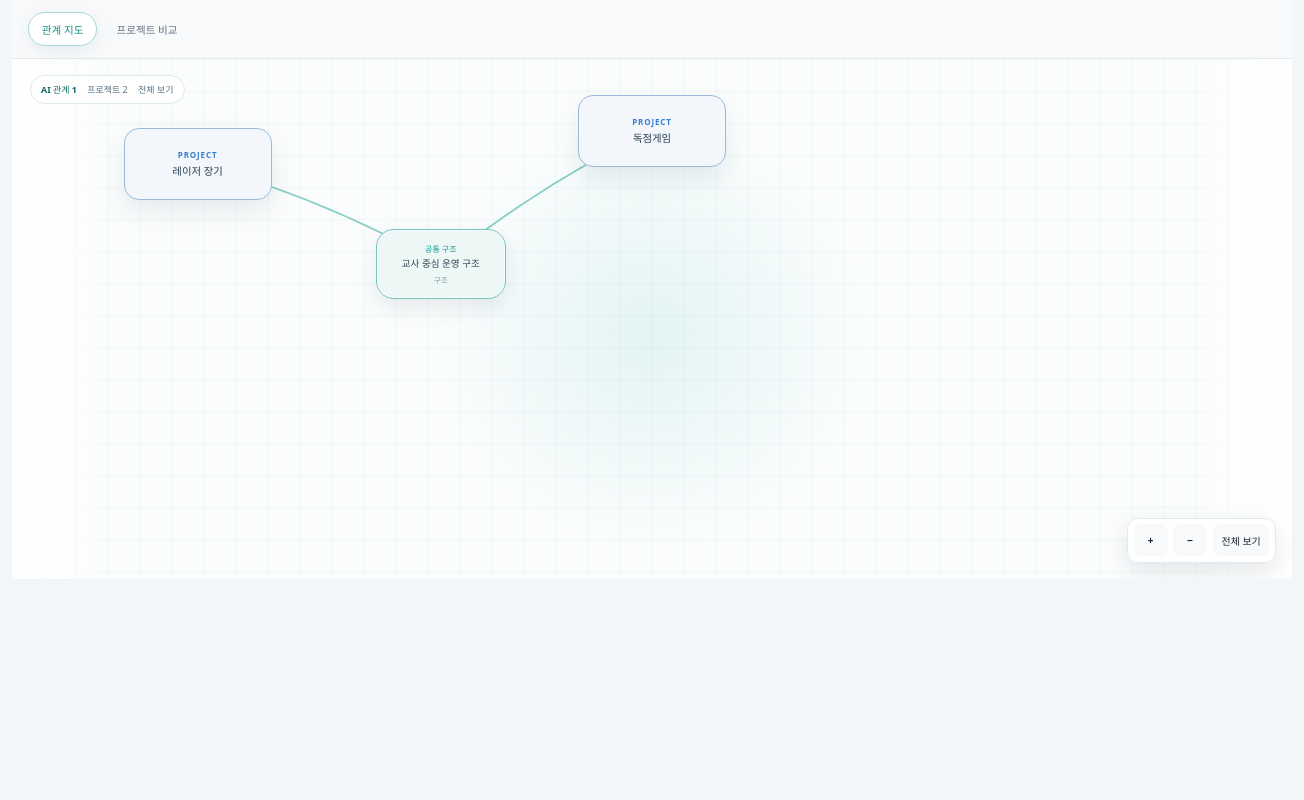
KnowledgeConstellation relationship map › focuses the first-degree relationships of a selected project
This screenshot has width=1304, height=800.
Step 1. Click the button "PROJECT 레이저 장기" → (198, 164), box [124,128,272,200]
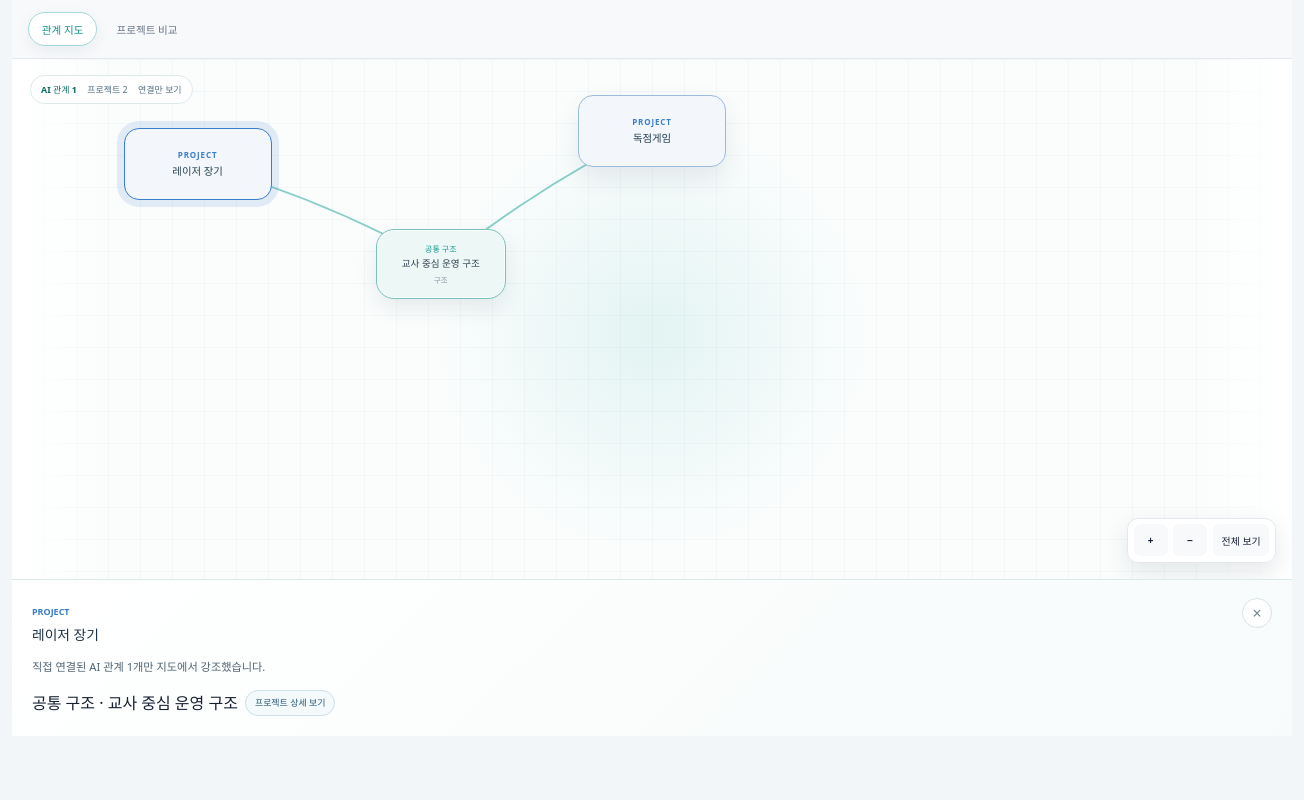
Result: the element named "선택한 프로젝트 연결 요약" shows "직접 연결된 AI 관계 1개" at [12,579,1292,736]
Result: the text "연결만 보기" is shown at [138,83,182,96]
